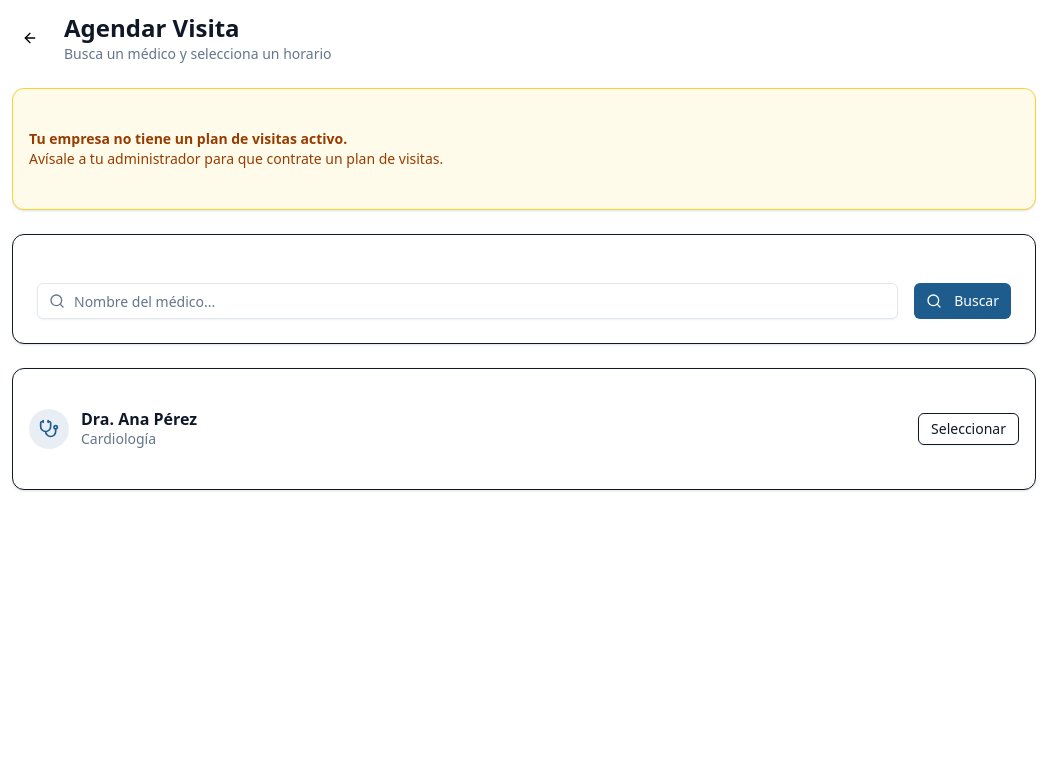
Test: VisitadorAgendarPage — prioridad al agendar › 'otro_laboratorio' con fecha_minima en la semana actual no mueve la grilla
The width and height of the screenshot is (1048, 780).
What coordinates should you click on to do the following:
click the button "Seleccionar"
I would click on:
 (969, 429)
Its box is [918,413,1019,445].
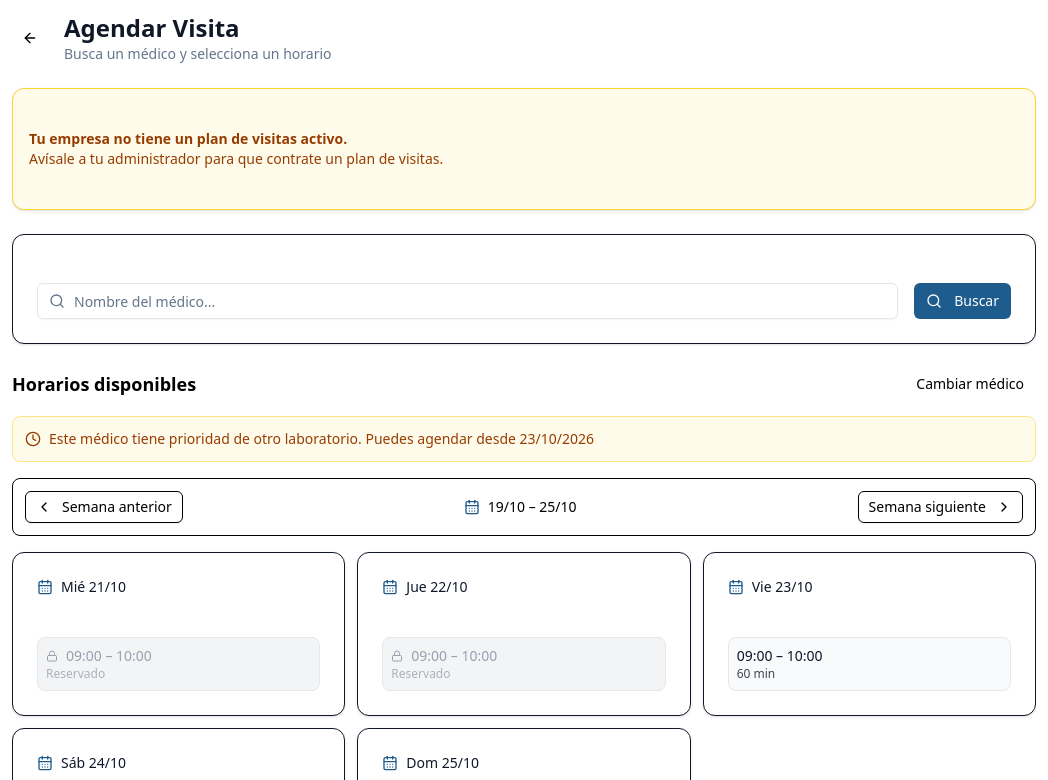
Expected: the heading "Horarios disponibles" is shown, [12,370,196,398]
Expected: the element with test id "prioridad-otro" is shown, [12,416,1036,462]
Expected: the text "19/10 – 25/10" is shown, [464,497,577,517]
